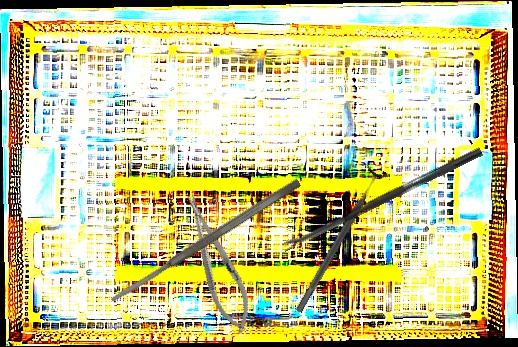Fixation Ring: (287, 161, 389, 318)
Needle Holder: (174, 188, 261, 339)
Spatula Surgical: (108, 177, 303, 305)
Surgical Spoon: (280, 146, 484, 252)
